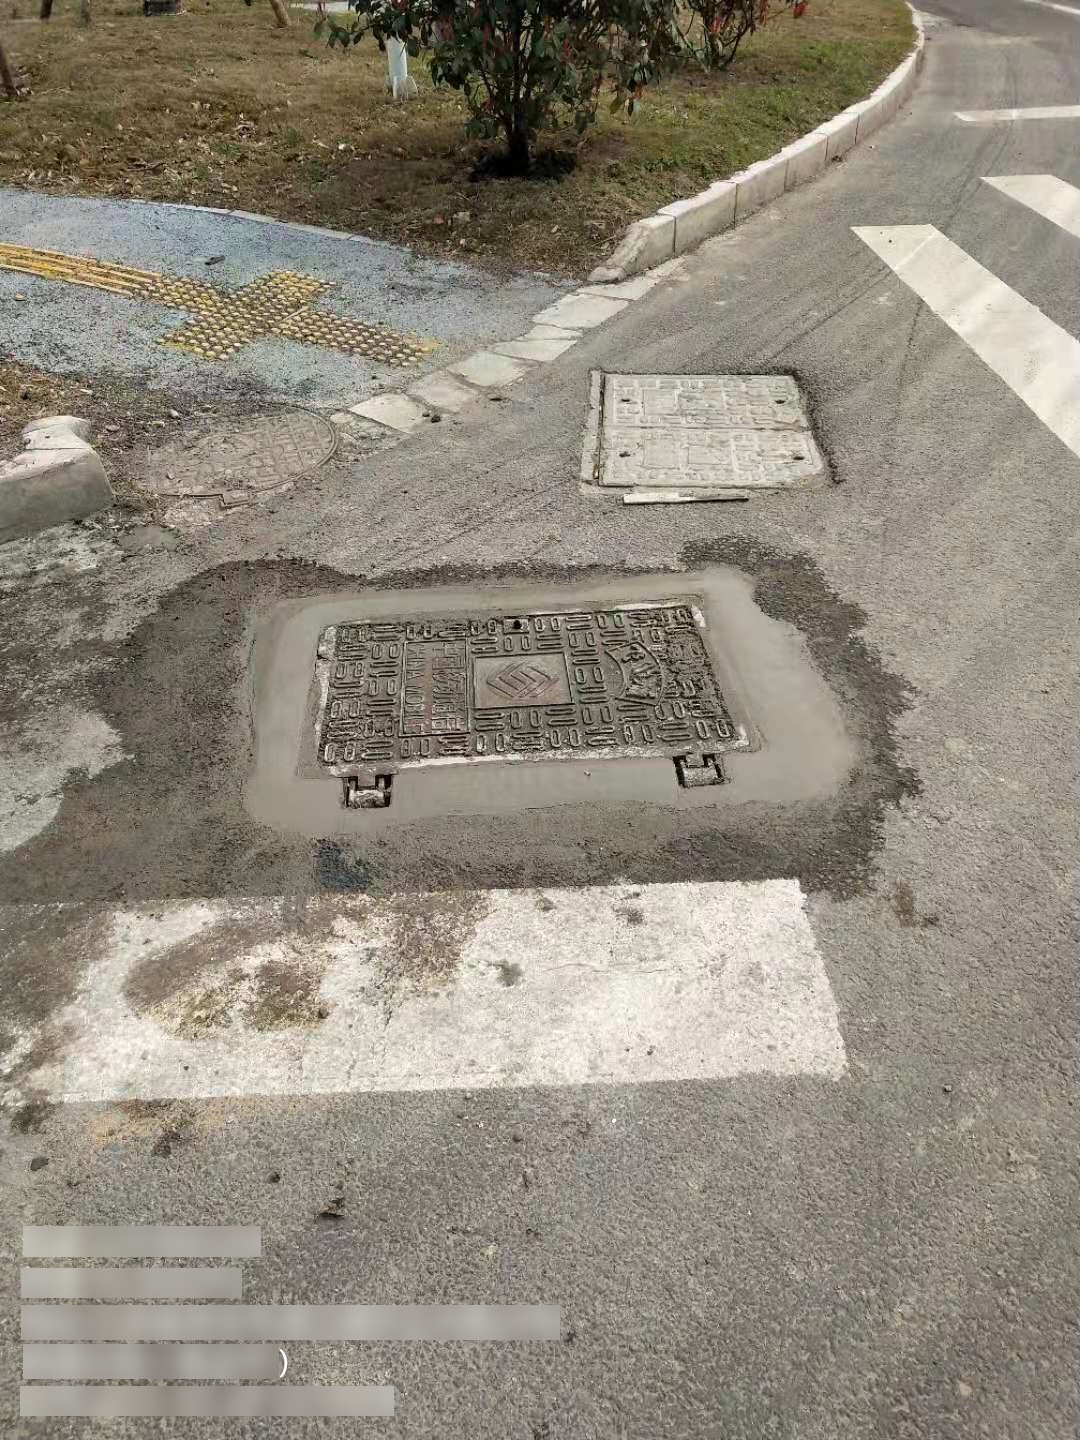good: (290, 588, 767, 812), (577, 364, 839, 507)
